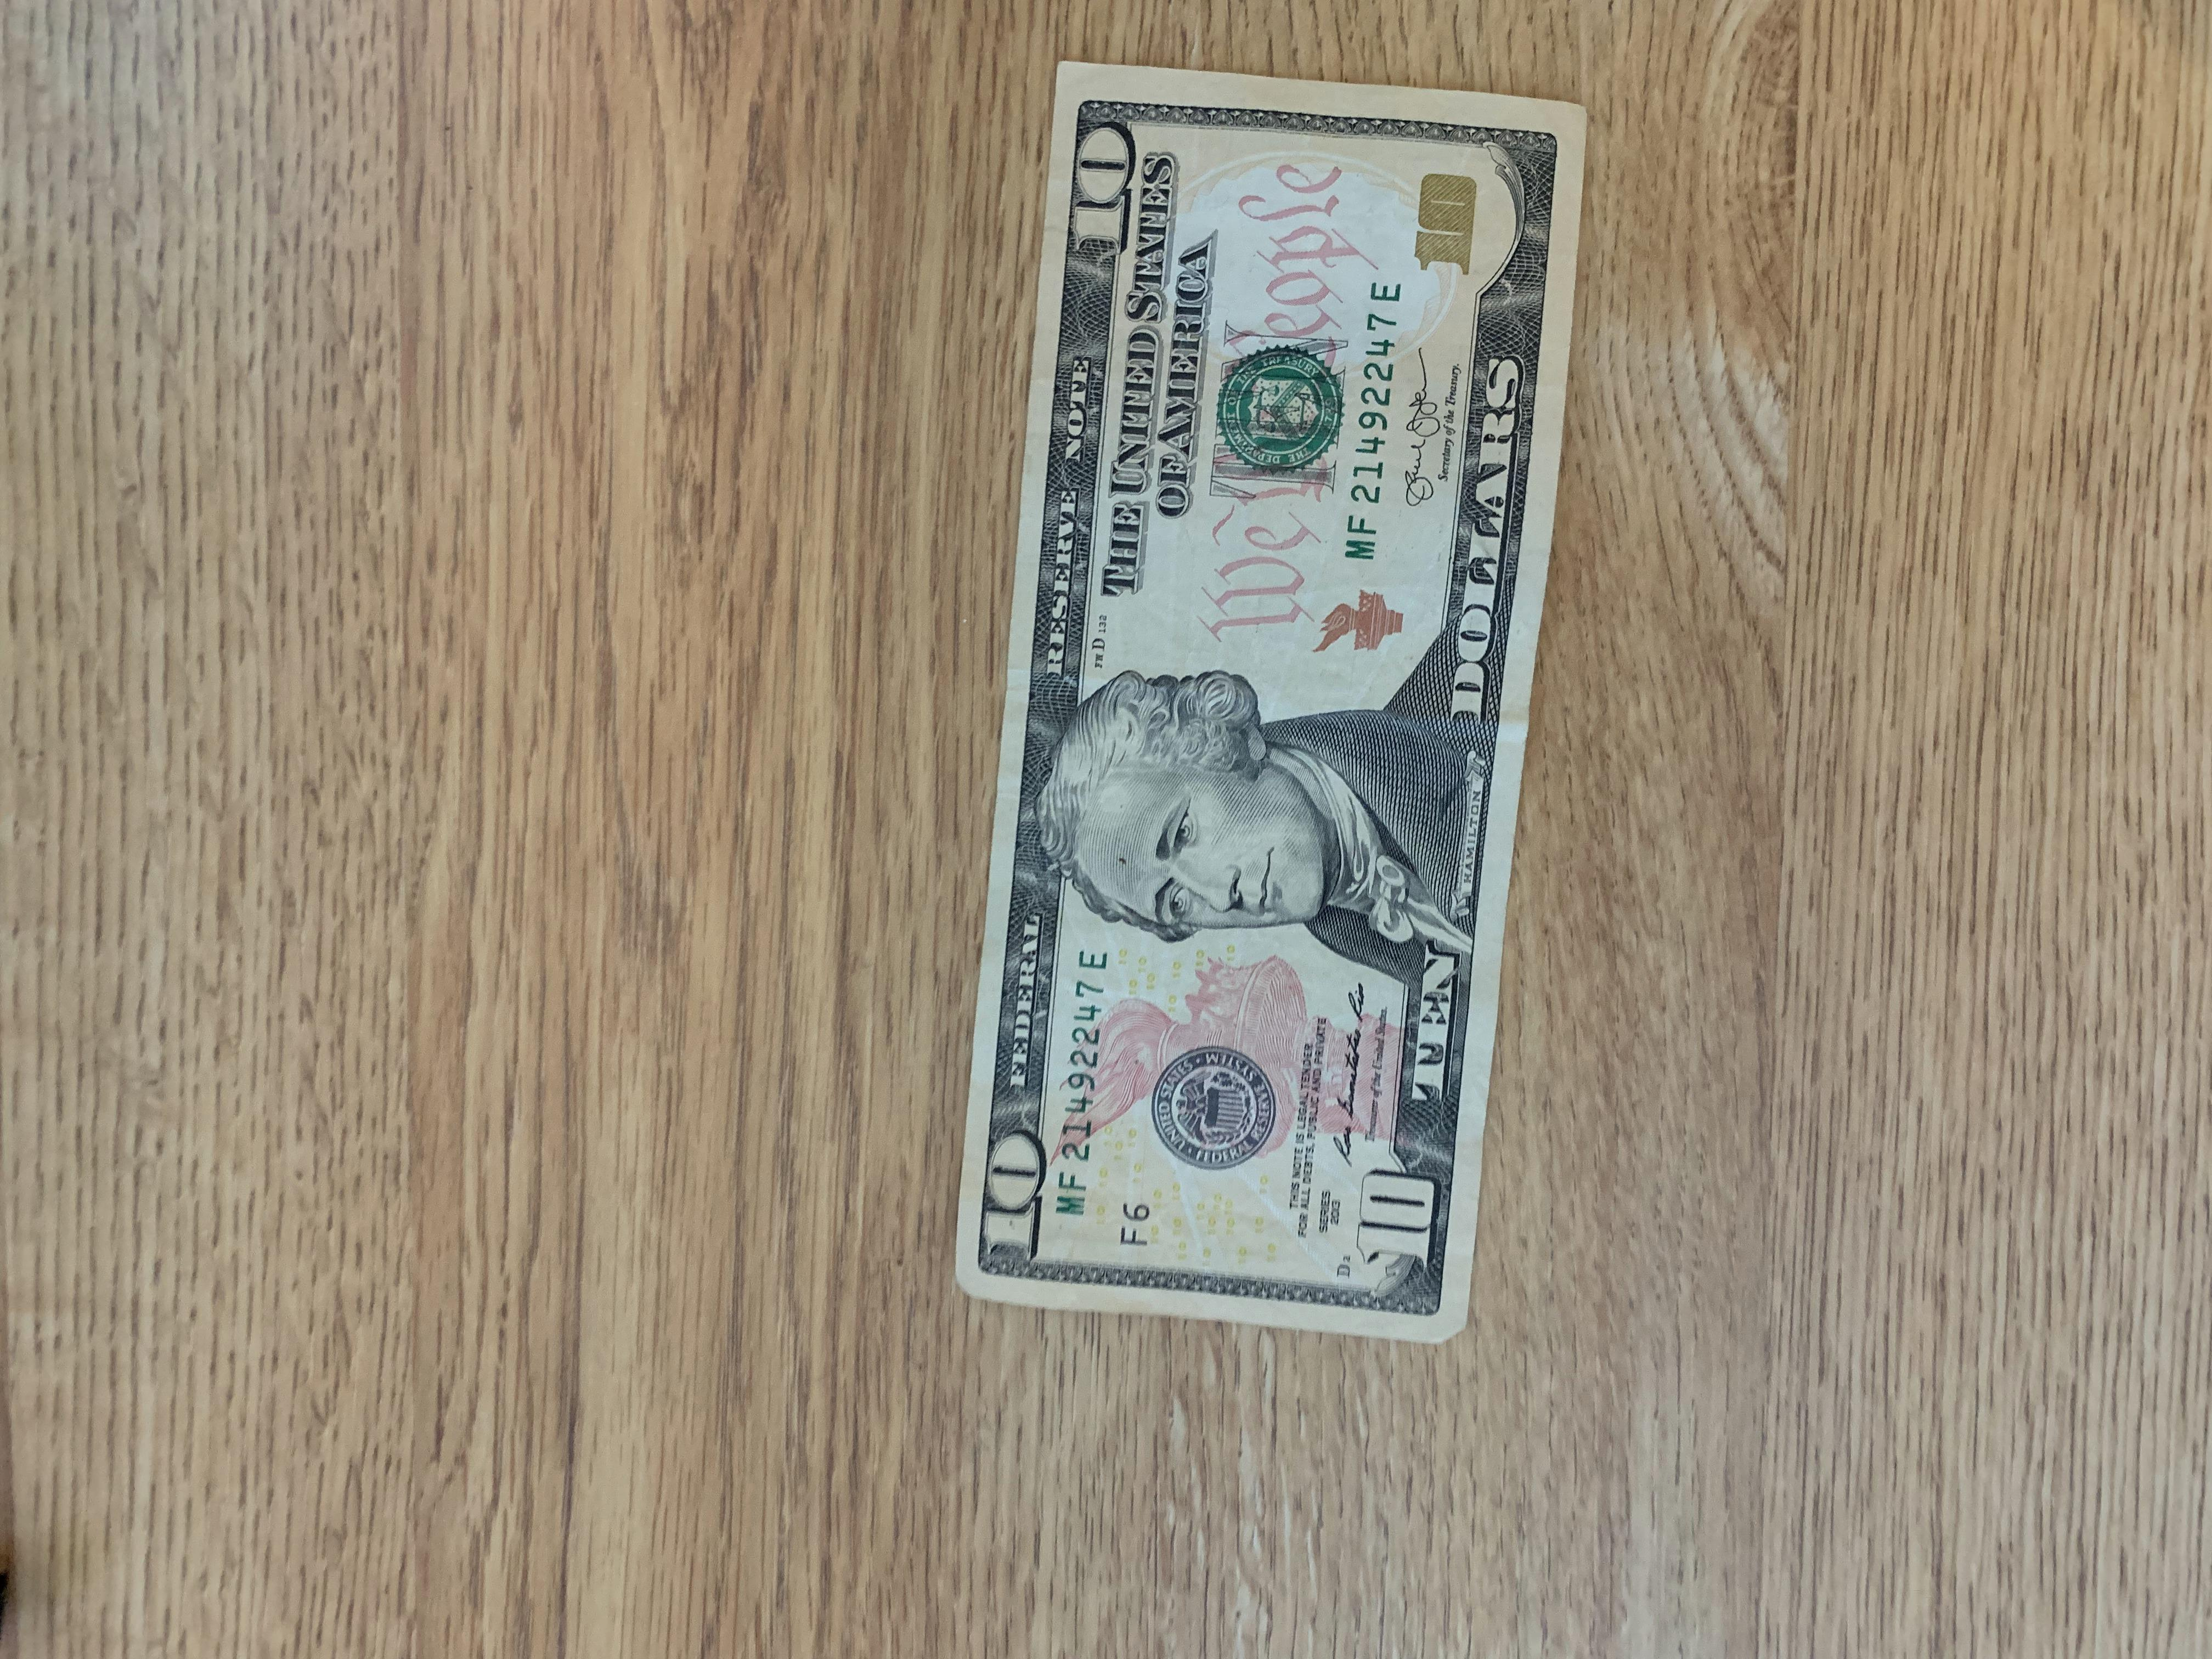TenBill: (951, 59, 1595, 1361)
